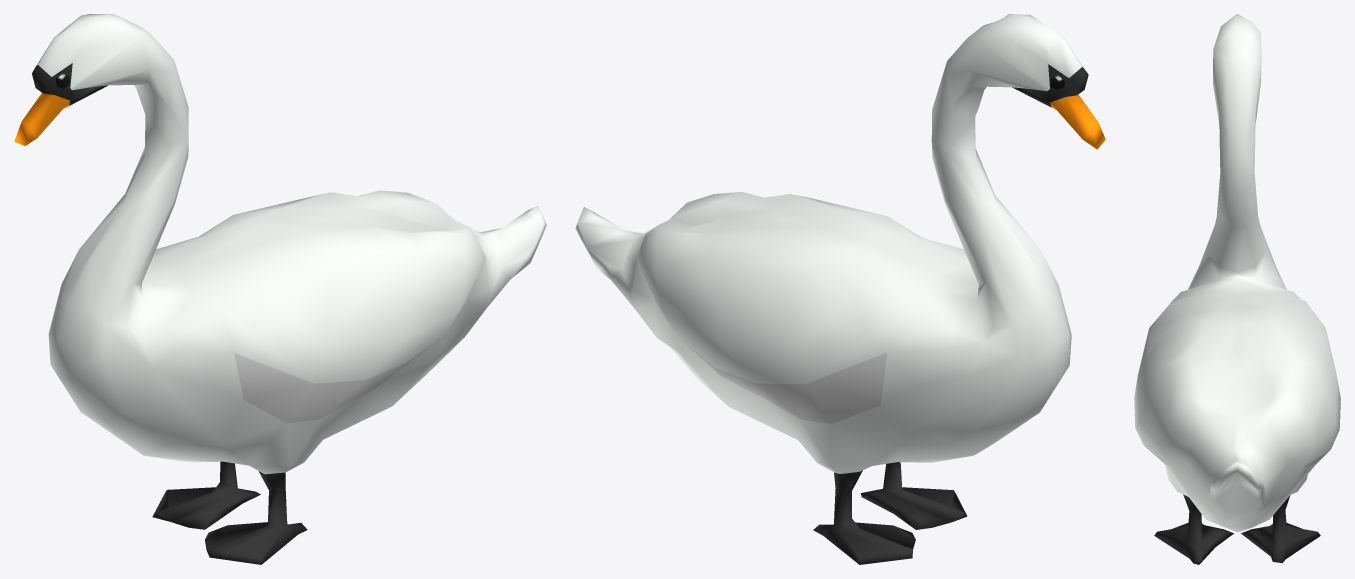
3 views of the same model, side by side, from view 1: azimuth 30°, elevation 25°; view 2: azimuth 150°, elevation 25°; view 3: azimuth 270°, elevation 25° (orthographic). The views are drawn at different scales.
Visible parts, largest first — view 1: Swan; view 2: Swan; view 3: Swan.
Part boxes in pixels (left/top/right/bottom): Swan: left=14, top=14, right=546, bottom=564; Swan: left=575, top=14, right=1105, bottom=564; Swan: left=1134, top=14, right=1340, bottom=564.
Size of what is drawn, in the model's own units: 1.04 by 1.03 by 0.4146.
Materials: 1 (1 with a texture image).
